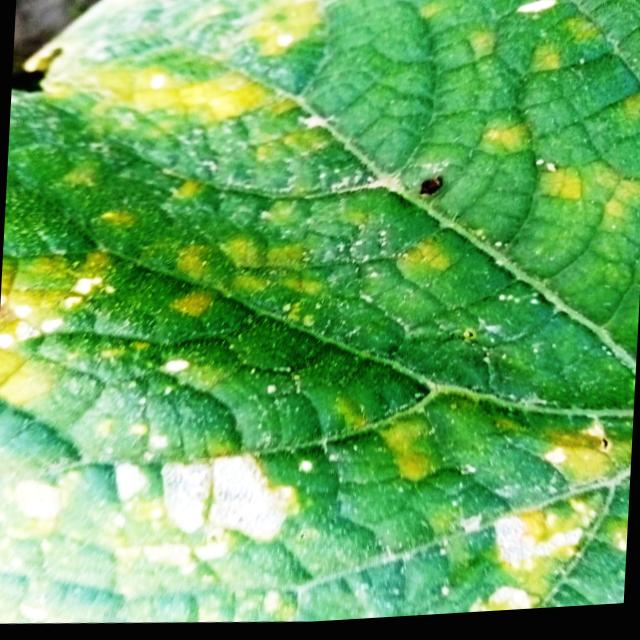Downy-Mildew: (0, 0, 640, 625)
